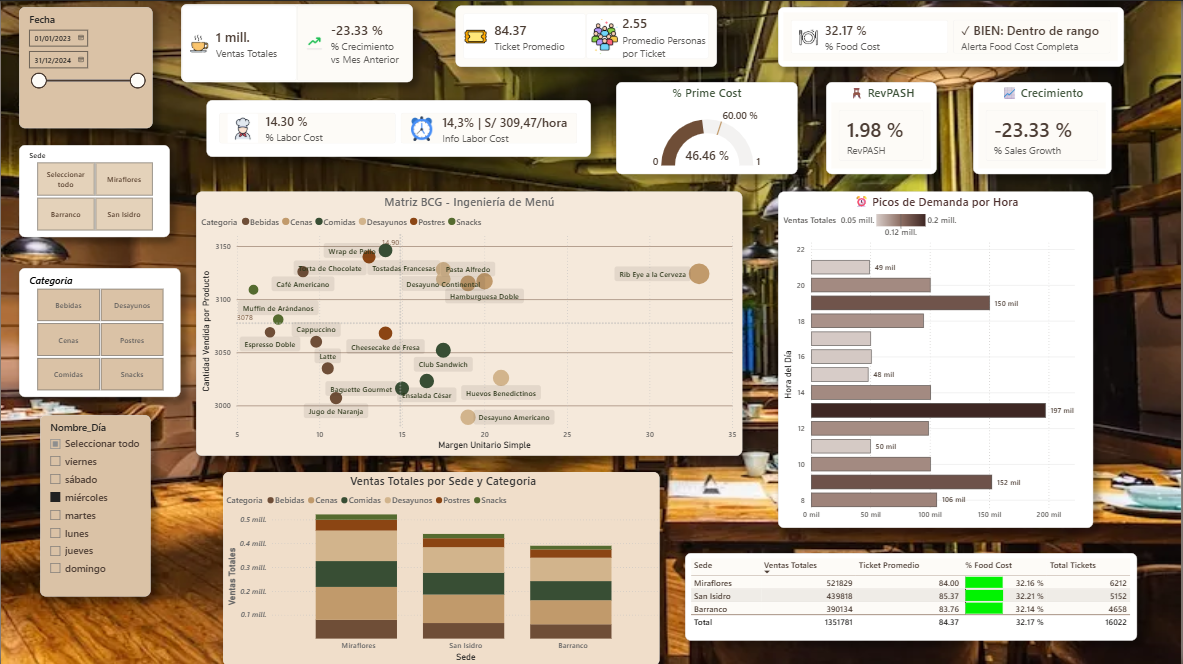

Layout of this report page (visuals, bound fields, positions):
{"tool":"powerbi","page":{"name":"Control de Gestión","canvas":[1920,1080],"ordinal":0},"visuals":[{"type":"card","fields":{"Values":["_Medidas.% Food Cost"]},"box":[873.3,11.7,160,75],"z":0},{"type":"scatterChart","title":"Matriz BCG - Ingeniería de Menú","fields":{"Category":["Dim_Productos.Nombre_Producto"],"Series":["Dim_Productos.Categoria"],"Size":["_Medidas.Ventas Totales"],"X":["_Medidas.Margen Unitario Simple"],"Y":["_Medidas.Cantidad Vendida por Producto"]},"box":[318.3,310,888.3,430],"z":1000},{"type":"clusteredBarChart","title":"⏰ Picos de Demanda por Hora","fields":{"Category":["Fact_Tickets.Hora_Agrupada"],"Y":["_Medidas.Ventas Totales"]},"box":[1265,310,512.5,547.5],"z":2000},{"type":"columnChart","fields":{"Category":["Fact_Tickets.Sede"],"Series":["Dim_Productos.Categoria"],"Y":["_Medidas.Ventas Totales"]},"box":[360,765,710,315],"z":3000},{"type":"tableEx","fields":{"Values":["Fact_Tickets.Sede","_Medidas.Ventas Totales","_Medidas.Ticket Promedio","_Medidas.% Food Cost","_Medidas.Total Tickets"]},"box":[1112.5,897.5,735,142.5],"z":4000},{"type":"slicer","fields":{"Values":["Fact_Tickets.Sede"]},"box":[30,235,245,150],"z":5000},{"type":"slicer","fields":{"Values":["Dim_Productos.Categoria"]},"box":[30,435,262.5,210],"z":6000},{"type":"slicer","fields":{"Values":["Dim_Calendario.Nombre_Día"]},"box":[63.3,673.3,180,295],"z":7000},{"type":"slicer","fields":{"Values":["Fact_Tickets.Fecha"]},"box":[30,10,217.5,197.5],"z":8000},{"type":"cardVisual","fields":{"Data":["_Medidas.Ventas Totales","_Medidas.% Crecimiento vs Mes Anterior"]},"box":[292.5,5,377.5,127.5],"z":9000},{"type":"cardVisual","fields":{"Data":["_Medidas.Ticket Promedio","_Medidas.Promedio Personas por Ticket"]},"box":[740,7.5,425,100],"z":10000},{"type":"cardVisual","fields":{"Data":["_Medidas.% Labor Cost","_Medidas.Info Labor Cost"]},"box":[335,160,625,92.5],"z":11000},{"type":"cardVisual","fields":{"Data":["_Medidas.% Food Cost","_Medidas.Alerta Food Cost Completa"]},"box":[1265,10,562.5,97.5],"z":12000},{"type":"gauge","title":"% Prime Cost","fields":{"MaxValue":["_Medidas.Maximo Prime Cost"],"MinValue":["_Medidas.Minimo Prime Cost"],"TargetValue":["_Medidas.Objetivo Prime Cost"],"Y":["_Medidas.% Prime Cost"]},"box":[1000,132.5,295,150],"z":13000},{"type":"cardVisual","title":"📈 Crecimiento","fields":{"Data":["_Medidas.% Sales Growth"]},"box":[1580,132.5,225,150],"z":14000},{"type":"cardVisual","title":"🪑 RevPASH","fields":{"Data":["_Medidas.RevPASH"]},"box":[1342.5,132.5,180,150],"z":15000}]}

Visuals, with their boxes in screenshot pixels (x1, y1, x2, y2), scaled from the page's 1920x1080 canvas onto the 1183x664 screenshot:
card - _Medidas.% Food Cost: bbox=[538, 7, 637, 53]
"Matriz BCG - Ingeniería de Menú" scatterChart: bbox=[196, 191, 743, 455]
"⏰ Picos de Demanda por Hora" clusteredBarChart: bbox=[779, 191, 1095, 527]
columnChart - Fact_Tickets.Sede x Dim_Productos.Categoria: bbox=[222, 470, 659, 663]
tableEx - Fact_Tickets.Sede x _Medidas.Ventas Totales: bbox=[685, 552, 1138, 639]
slicer - Fact_Tickets.Sede: bbox=[18, 144, 169, 237]
slicer - Dim_Productos.Categoria: bbox=[18, 267, 180, 397]
slicer - Dim_Calendario.Nombre_Día: bbox=[39, 414, 150, 595]
slicer - Fact_Tickets.Fecha: bbox=[18, 6, 152, 128]
cardVisual - _Medidas.Ventas Totales x _Medidas.% Crecimiento vs Mes Anterior: bbox=[180, 3, 413, 81]
cardVisual - _Medidas.Ticket Promedio x _Medidas.Promedio Personas por Ticket: bbox=[456, 5, 718, 66]
cardVisual - _Medidas.% Labor Cost x _Medidas.Info Labor Cost: bbox=[206, 98, 592, 155]
cardVisual - _Medidas.% Food Cost x _Medidas.Alerta Food Cost Completa: bbox=[779, 6, 1126, 66]
"% Prime Cost" gauge: bbox=[616, 81, 798, 174]
"📈 Crecimiento" cardVisual: bbox=[974, 81, 1112, 174]
"🪑 RevPASH" cardVisual: bbox=[827, 81, 938, 174]
